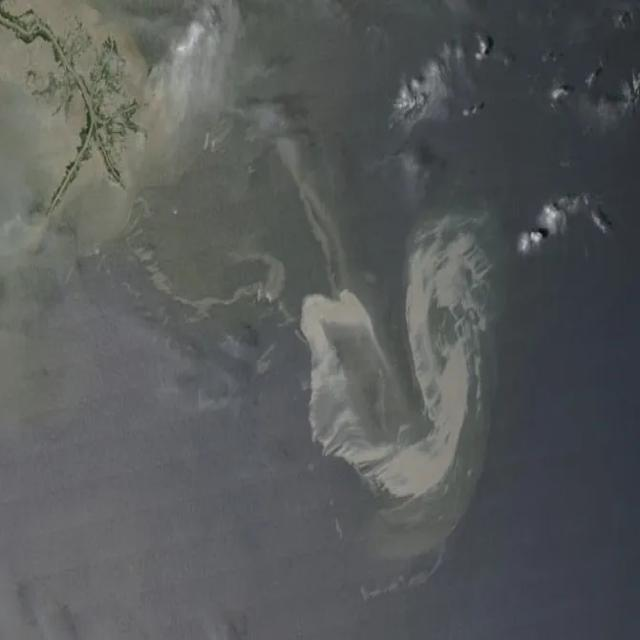oil spill: (301, 212, 492, 552)
